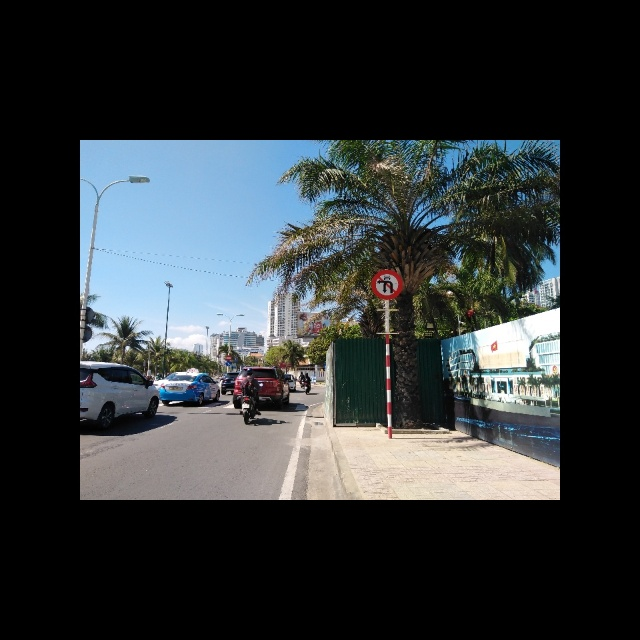Cấm xe ô tô quay đầu và rẽ trái: (371, 269, 402, 300)
